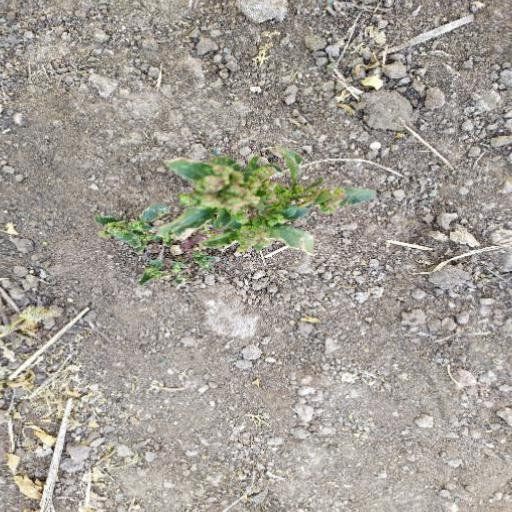weed: (86, 150, 347, 282)
